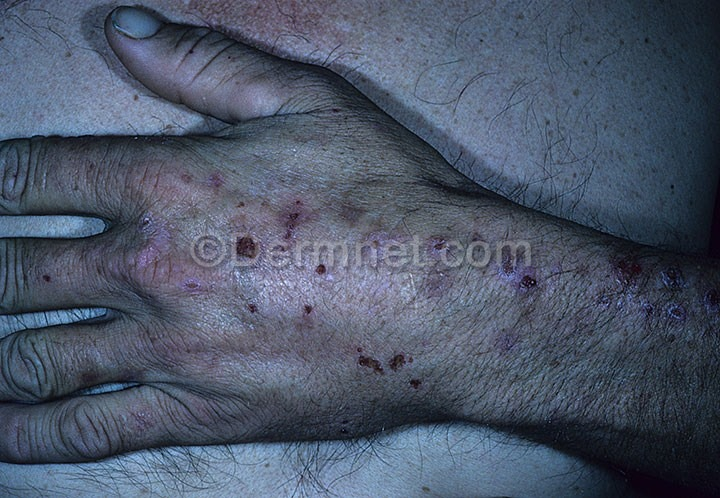Melasma: (51, 142, 386, 235), (591, 240, 714, 357), (176, 265, 356, 343), (30, 240, 182, 304), (480, 266, 565, 367), (330, 326, 439, 402)
